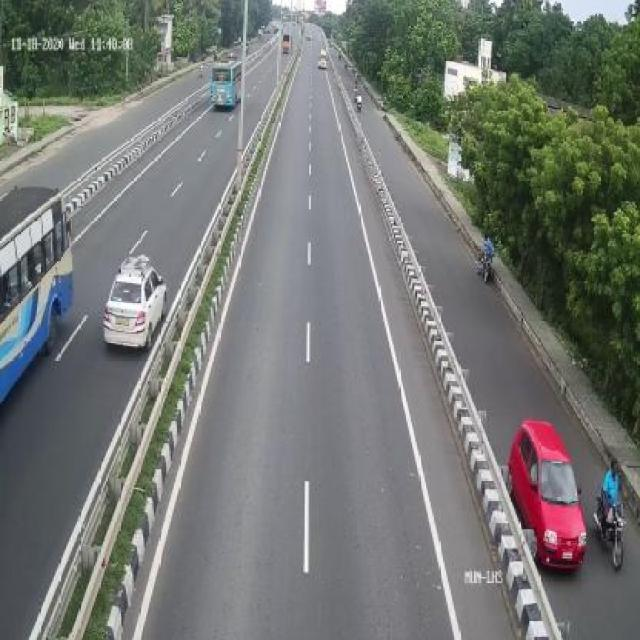car: (515, 408, 588, 575), (103, 257, 175, 346)
